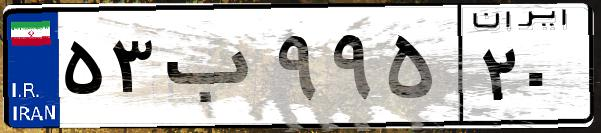0: (525, 38, 570, 115)
2: (475, 38, 525, 113)
3: (110, 28, 158, 98)
5: (385, 28, 445, 110), (57, 26, 110, 100)
9: (270, 28, 330, 110), (330, 28, 385, 110)
ب: (158, 20, 270, 120)
